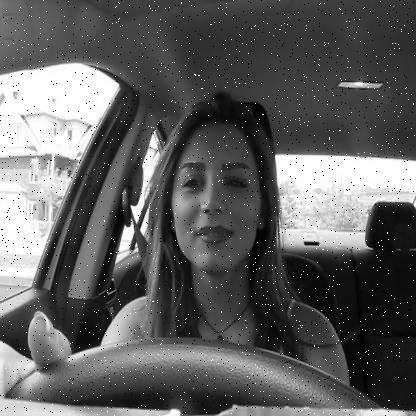seatbelt: (105, 74, 288, 340)
